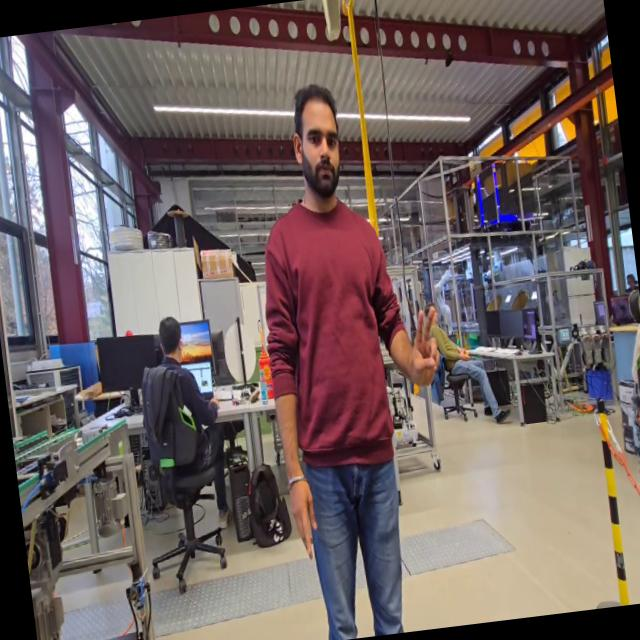v_sign: (400, 302, 448, 392)
